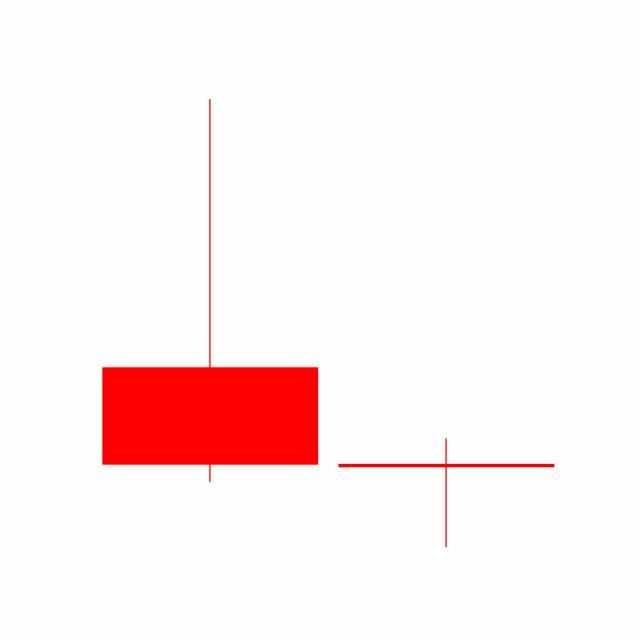Hammer: (328, 438, 566, 550)
